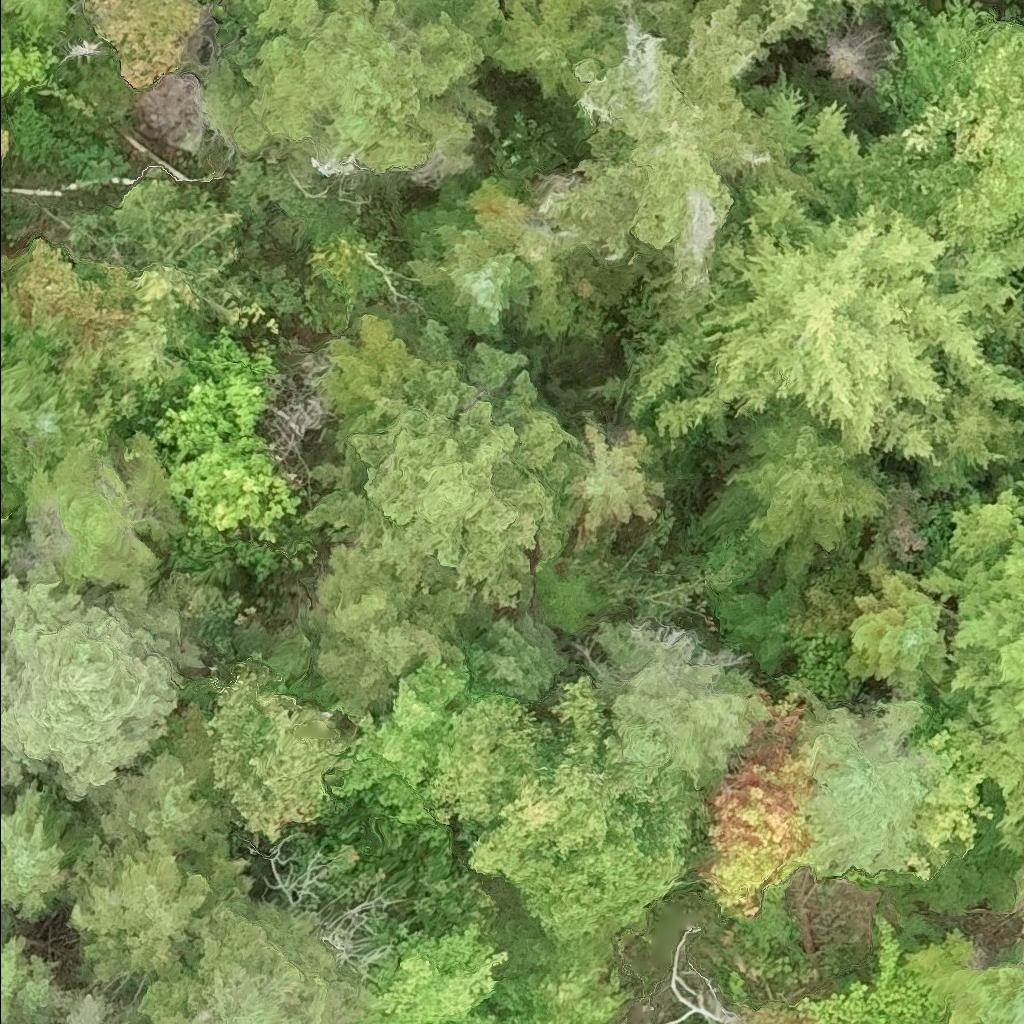crown: (628, 62, 1023, 466), (309, 310, 583, 610), (541, 0, 826, 265), (431, 672, 693, 948), (196, 0, 505, 173), (0, 557, 208, 810), (848, 0, 1023, 250), (69, 165, 282, 338), (136, 888, 380, 1023), (916, 473, 1023, 765), (594, 618, 771, 792), (304, 542, 480, 712), (699, 690, 830, 916), (61, 830, 253, 984), (202, 658, 355, 843), (21, 431, 191, 594), (723, 399, 892, 552), (801, 692, 941, 871), (327, 658, 474, 825), (456, 174, 598, 345), (406, 168, 538, 338), (97, 698, 227, 848), (149, 315, 280, 462), (4, 236, 137, 369), (801, 911, 946, 1023), (358, 919, 511, 1023), (562, 408, 673, 550), (167, 432, 303, 545), (487, 0, 622, 99), (705, 554, 801, 691), (108, 264, 200, 392), (845, 570, 945, 685), (85, 0, 208, 92), (480, 954, 636, 1023), (906, 765, 995, 882), (0, 779, 72, 921), (942, 369, 1023, 471), (811, 4, 894, 90), (306, 225, 389, 308), (940, 941, 1023, 1023), (23, 370, 90, 468), (0, 352, 41, 511), (0, 22, 59, 96), (58, 989, 144, 1023), (0, 0, 68, 38), (996, 772, 1023, 859), (831, 0, 907, 19), (745, 0, 805, 19), (0, 530, 16, 570), (0, 16, 17, 51), (0, 516, 14, 525), (926, 0, 944, 6), (1017, 403, 1023, 416)
